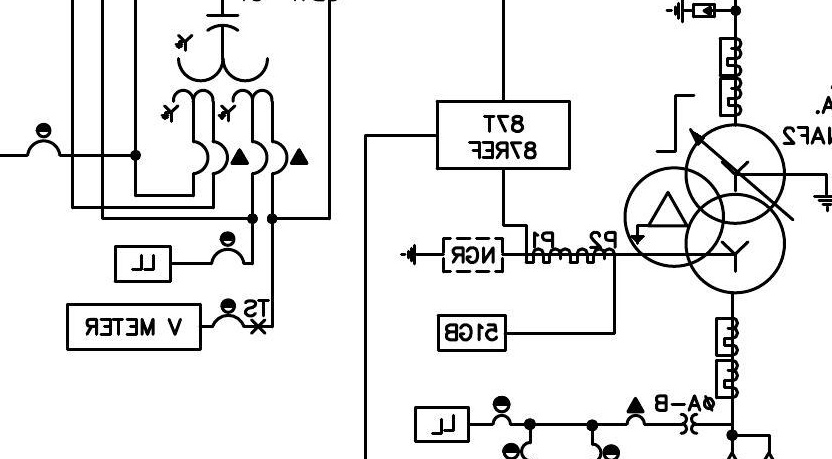11522_tx_ynyn0d1: (622, 122, 787, 296)
115_cvt_3p: (160, 13, 310, 177)
LL: (113, 244, 173, 284), (413, 406, 471, 443)
NGR_future: (399, 237, 505, 274)
v_m_digital: (65, 302, 203, 352)
